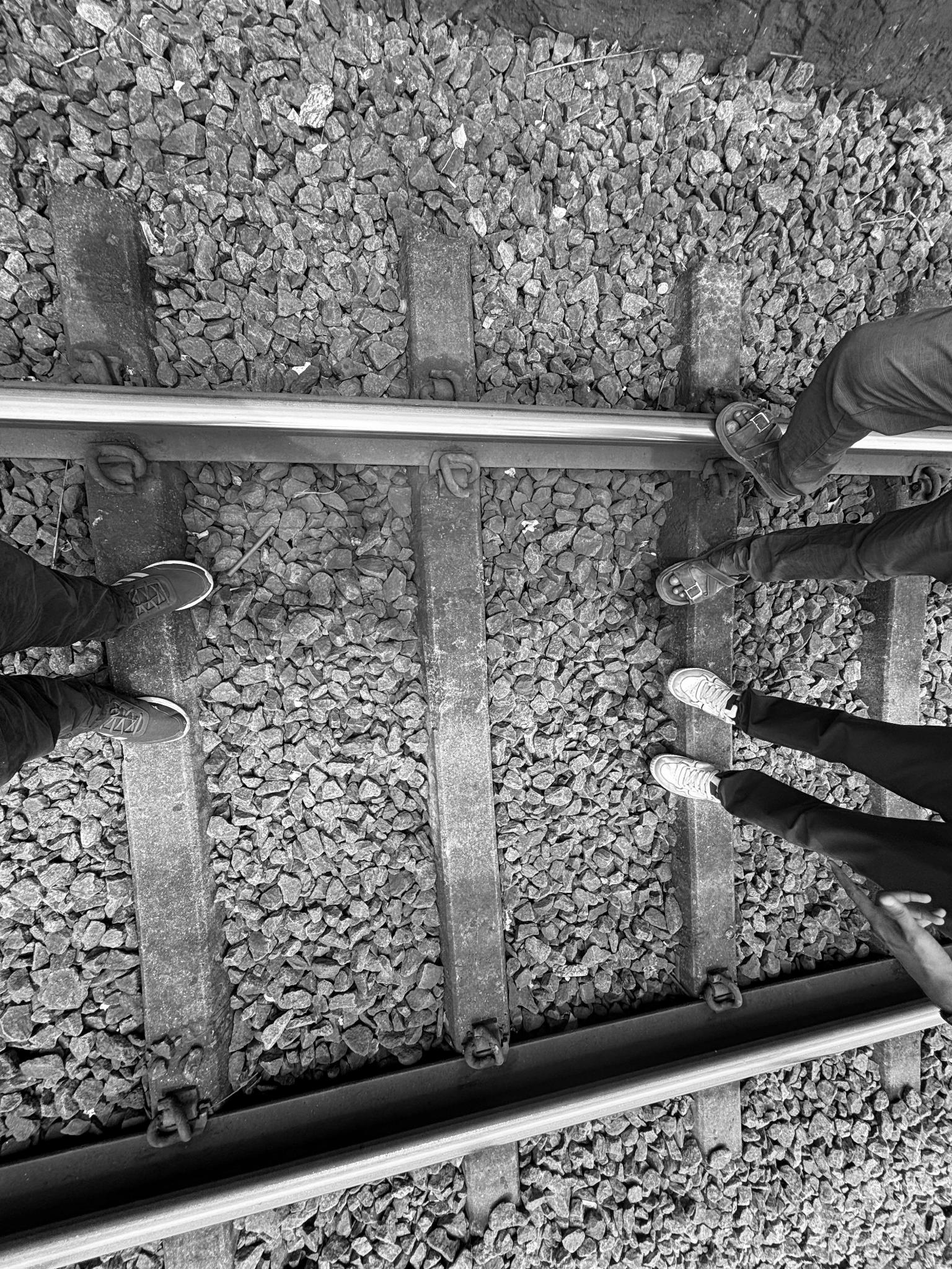cracks in midportion: (453, 531, 487, 591)
